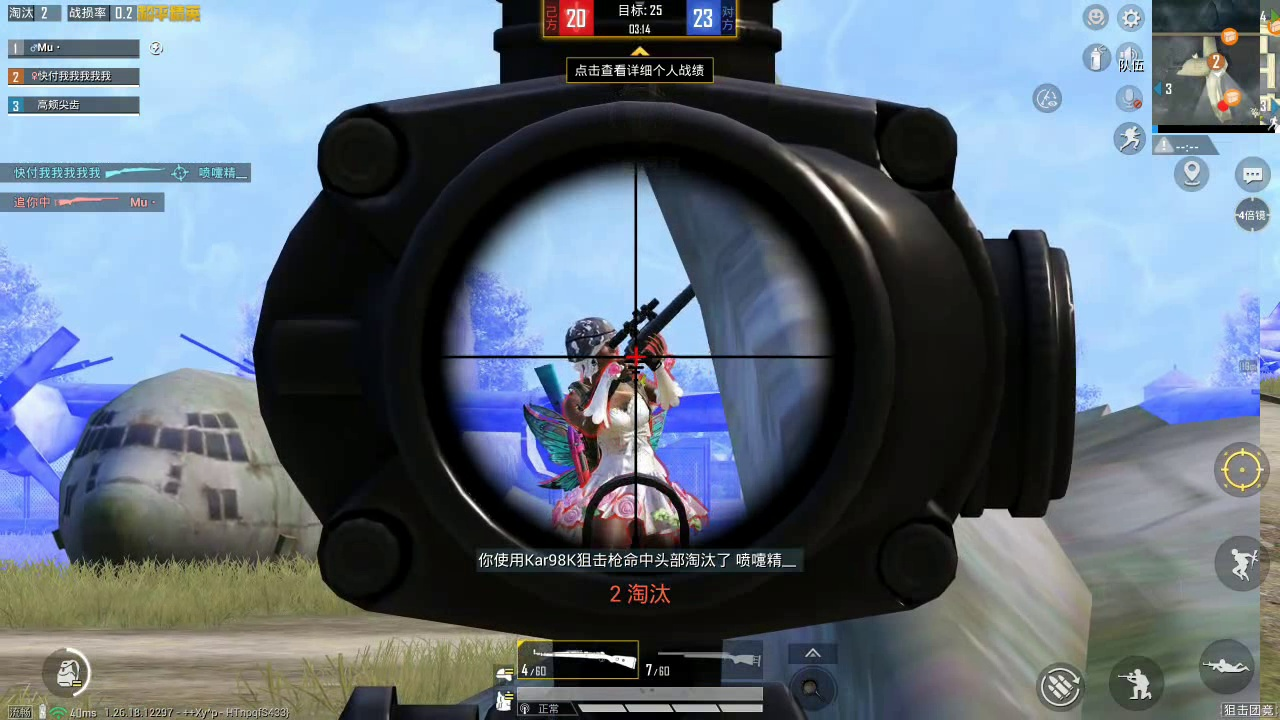enemy: (554, 318, 683, 548)
